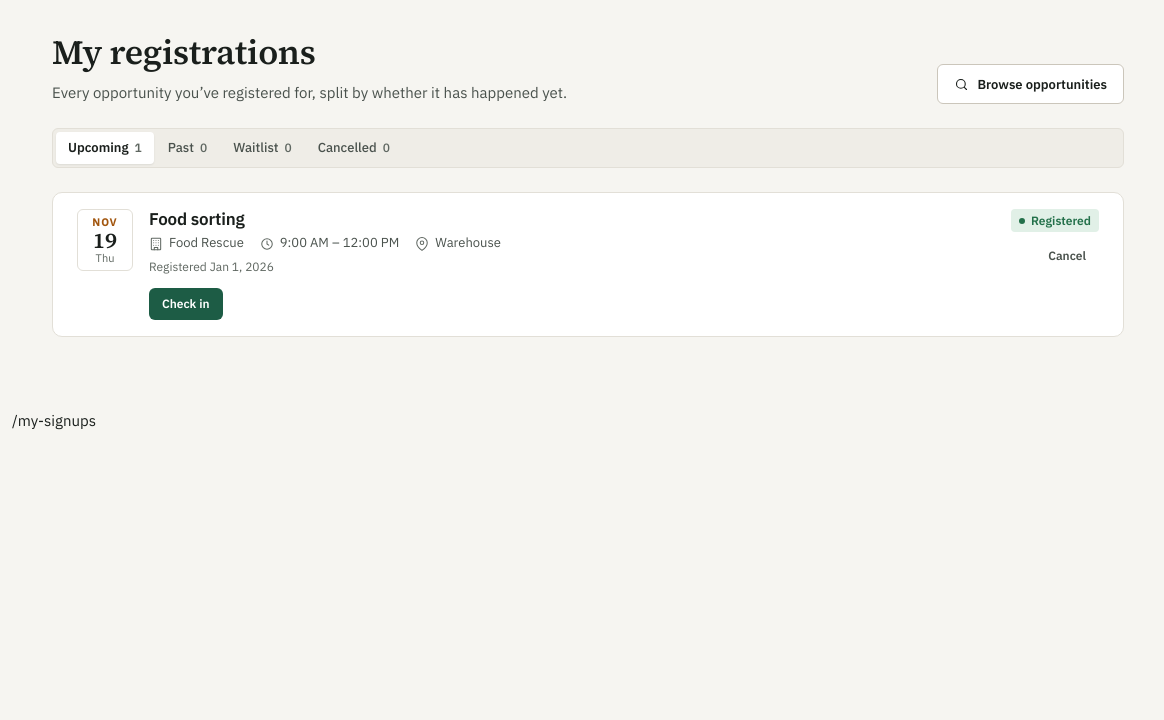
Test: My registrations › shows the server message when the check-in code is wrong
Click the button "Check in" at (186, 304), box [149,288,222,320]
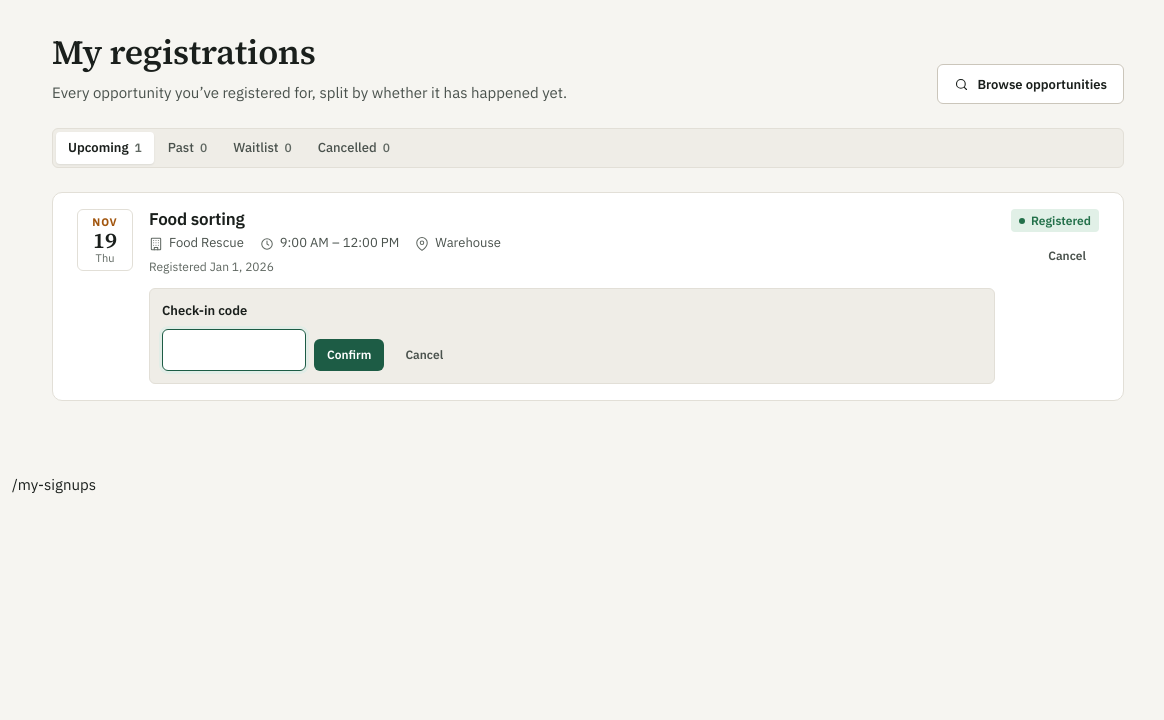
Type "WRONG" into the field labelled "Check-in code" at (234, 350), box [162,329,306,371]
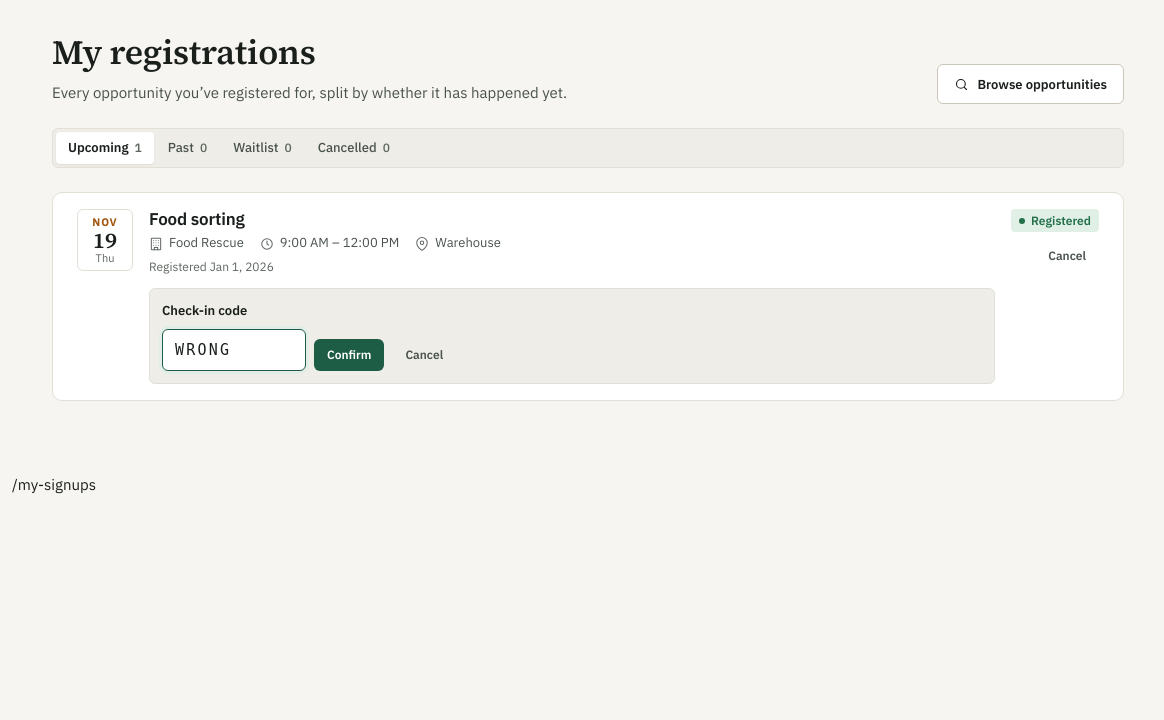
Click the button "Confirm" at (349, 355), box [314,339,384,371]
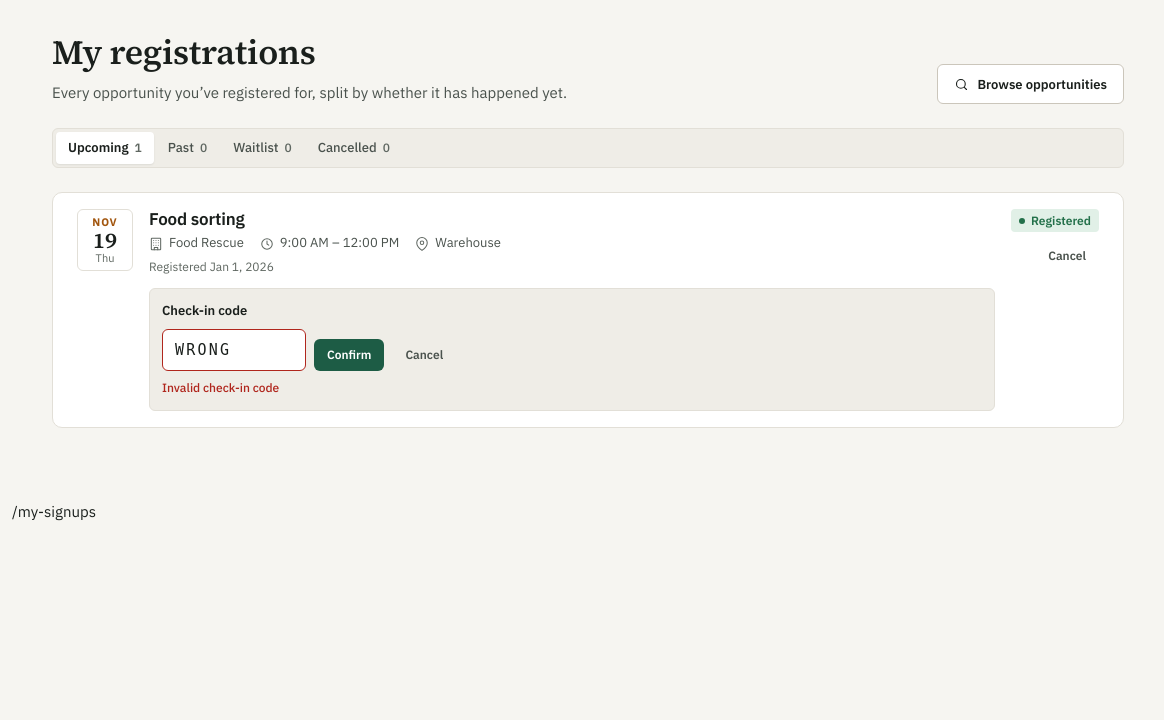
Now the text "Invalid check-in code" is shown, box [162,380,279,395]
